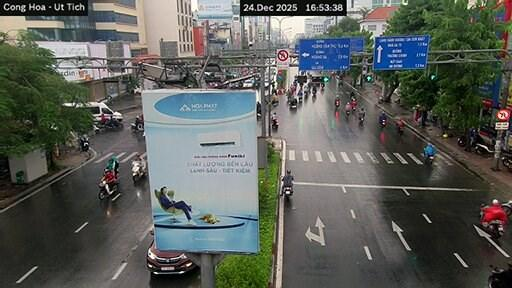motorbike: (480, 207, 503, 238), (487, 265, 511, 287), (98, 180, 118, 199), (132, 161, 146, 182), (98, 118, 123, 129), (475, 143, 494, 154), (78, 134, 89, 151), (501, 200, 511, 217), (131, 118, 143, 131), (283, 186, 292, 199), (424, 154, 434, 165), (131, 123, 143, 131), (457, 136, 466, 146), (289, 98, 297, 108), (396, 125, 403, 135), (272, 118, 278, 129), (379, 119, 386, 127), (297, 94, 303, 103), (335, 99, 340, 109), (345, 109, 350, 118), (359, 115, 364, 124), (378, 96, 383, 103)
